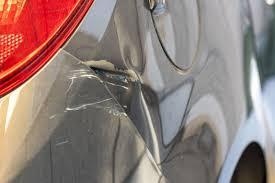dent: (110, 2, 170, 170)
scratch: (44, 53, 139, 152)
